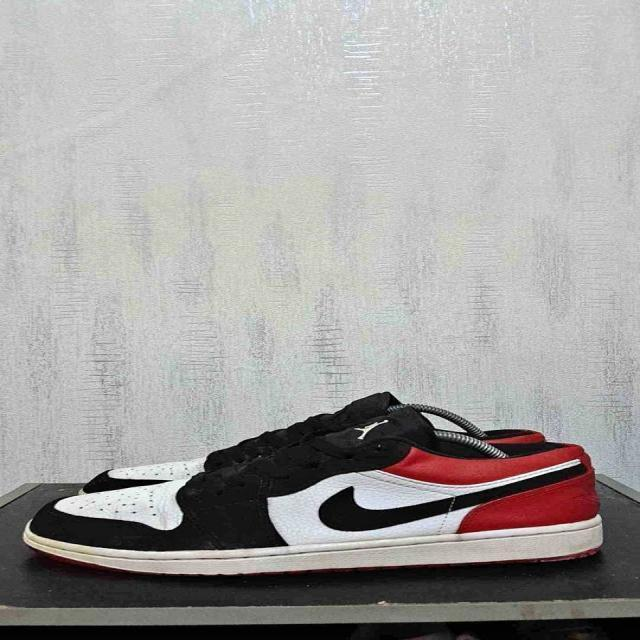nike fake jordan 1: (18, 411, 612, 584)
